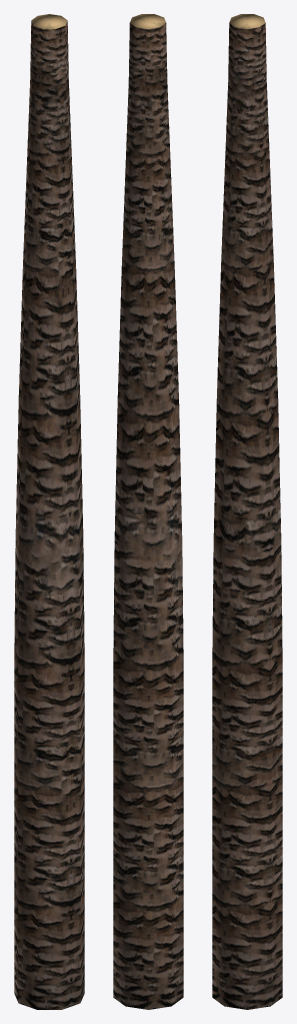
File: Palm1MeshShape.dae
The picture shows the model from 3 angles, left to right: view 1: azimuth 90°, elevation 25°; view 2: azimuth 150°, elevation 25°; view 3: azimuth 270°, elevation 25°; orthographic projection.
Visible parts, largest first — view 1: Palm1Mesh; view 2: Palm1Mesh; view 3: Palm1Mesh.
Boxes of the visible parts, <box> form: Palm1Mesh: <box>14,14,84,1009</box>; Palm1Mesh: <box>113,14,183,1009</box>; Palm1Mesh: <box>212,14,282,1009</box>.
Bounding box in the file's own units: 1.54 × 23.86 × 1.57.
